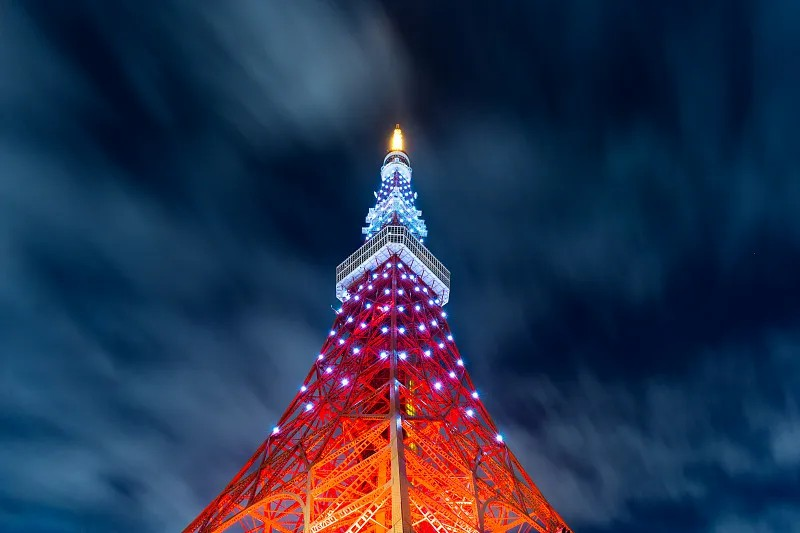Tokyo: (180, 119, 577, 533)
